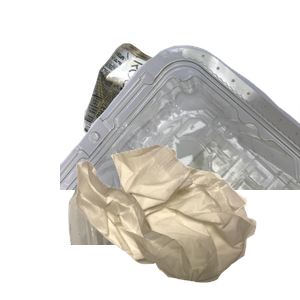glass: (61, 120, 287, 300)
metal: (81, 41, 234, 178)
plastic: (60, 43, 300, 223)
trash: (73, 142, 300, 300)
